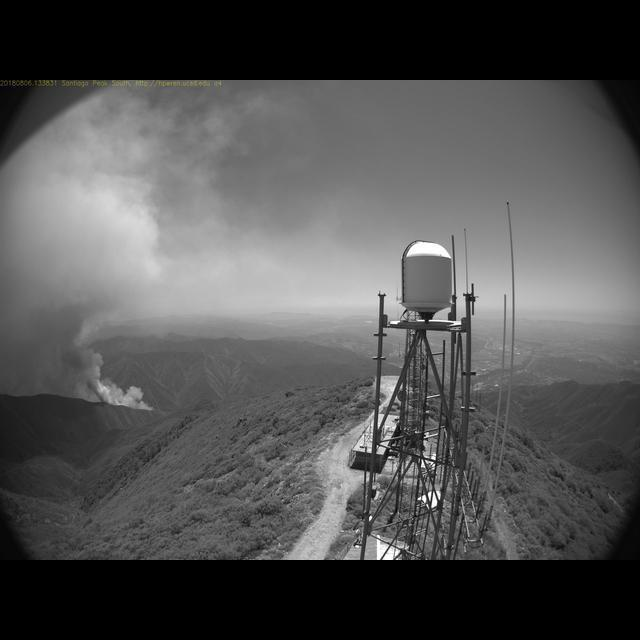Smoke: (1, 162, 153, 417)
